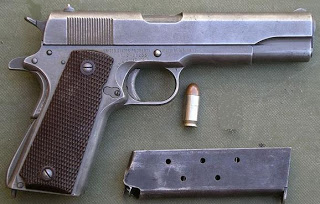Arma Real: (8, 5, 320, 197)
